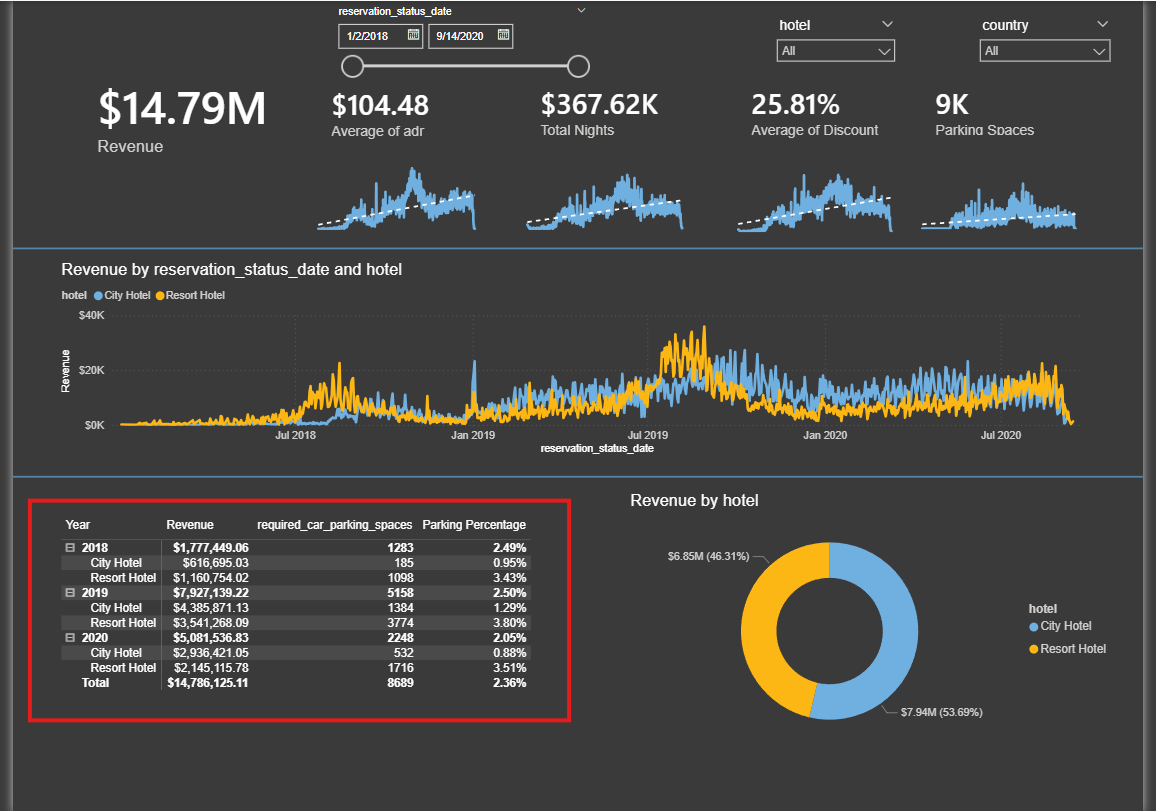

What the dashboard file says about the page in this screenshot:
{"tool":"powerbi","page":{"name":"Page 1","canvas":[1280,920],"ordinal":0},"visuals":[{"type":"shape","box":[0,264.3,1280,32.7],"z":0},{"type":"shape","box":[0,464.1,1280,148.9],"z":1000},{"type":"cardVisual","fields":{"Data":["Sum(Query1.Revenue)"]},"box":[65.3,42.3,257.5,173.9],"z":2000},{"type":"cardVisual","fields":{"Data":["Avg(Query1.adr)"]},"box":[330.6,66.3,237.4,115.3],"z":3000},{"type":"cardVisual","fields":{"Data":["Query1.Total Nights"]},"box":[567.9,69.2,247.9,109.5],"z":4000},{"type":"cardVisual","fields":{"Data":["Avg(Query1.Discount)"]},"box":[807.2,69.2,219.1,108.6],"z":5000},{"type":"lineChart","fields":{"Y":["Sum(Query1.Revenue)"],"Category":["Query1.reservation_status_date"],"Series":["Query1.hotel"]},"box":[50,293.1,1179.1,225.8],"z":6000},{"type":"slicer","fields":{"Values":["Query1.country"]},"box":[1084.9,13.9,168,80.1],"z":7000},{"type":"slicer","fields":{"Values":["Query1.hotel"]},"box":[855.9,13.7,154.5,66.4],"z":8000},{"type":"lineChart","fields":{"Category":["Query1.reservation_status_date"],"Y":["Sum(Query1.adr)"]},"box":[330.6,165.3,207.6,99],"z":9000},{"type":"lineChart","fields":{"Y":["Query1.Total Nights"],"Category":["Query1.reservation_status_date"]},"box":[567.9,165.3,205.6,99],"z":10000},{"type":"lineChart","fields":{"Y":["Sum(Query1.Discount)"],"Category":["Query1.reservation_status_date"]},"box":[807.2,177.8,203.7,89.4],"z":11000},{"type":"cardVisual","fields":{"Data":["Sum(Query1.required_car_parking_spaces)"]},"box":[1015.5,75.5,252.7,94],"z":12000},{"type":"lineChart","fields":{"Y":["Sum(Query1.required_car_parking_spaces)"],"Category":["Query1.reservation_status_date"]},"box":[1014.8,174.9,203.7,89.4],"z":13000},{"type":"donutChart","fields":{"Category":["Query1.hotel"],"Y":["Sum(Query1.Revenue)"]},"box":[694.6,555,558.4,296.4],"z":14000},{"type":"pivotTable","fields":{"Rows":["Query1.reservation_status_date.Variation.Date Hierarchy.Year","Query1.hotel"],"Values":["Sum(Query1.Revenue)","Sum(Query1.required_car_parking_spaces)","Query1.Parking Percentage"]},"box":[50.3,580.1,611,296.4],"z":15000},{"type":"slicer","fields":{"Values":["Query1.reservation_status_date"]},"box":[355.9,0,305.5,93.8],"z":16000}]}

Visuals, with their boxes in screenshot pixels (x1, y1, x2, y2), scaled from the page's 1280x920 canvas onto the 1156x811 screenshot:
shape: x1=0 y1=233 x2=1155 y2=262
shape: x1=0 y1=409 x2=1155 y2=540
cardVisual - Sum(Query1.Revenue): x1=59 y1=37 x2=292 y2=191
cardVisual - Avg(Query1.adr): x1=299 y1=58 x2=513 y2=160
cardVisual - Query1.Total Nights: x1=513 y1=61 x2=737 y2=158
cardVisual - Avg(Query1.Discount): x1=729 y1=61 x2=927 y2=157
lineChart - Sum(Query1.Revenue) x Query1.reservation_status_date: x1=45 y1=258 x2=1110 y2=457
slicer - Query1.country: x1=980 y1=12 x2=1132 y2=83
slicer - Query1.hotel: x1=773 y1=12 x2=913 y2=71
lineChart - Query1.reservation_status_date x Sum(Query1.adr): x1=299 y1=146 x2=486 y2=233
lineChart - Query1.Total Nights x Query1.reservation_status_date: x1=513 y1=146 x2=699 y2=233
lineChart - Sum(Query1.Discount) x Query1.reservation_status_date: x1=729 y1=157 x2=913 y2=236
cardVisual - Sum(Query1.required_car_parking_spaces): x1=917 y1=67 x2=1145 y2=149
lineChart - Sum(Query1.required_car_parking_spaces) x Query1.reservation_status_date: x1=916 y1=154 x2=1100 y2=233
donutChart - Query1.hotel x Sum(Query1.Revenue): x1=627 y1=489 x2=1132 y2=751
pivotTable - Query1.reservation_status_date.Variation.Date Hierarchy.Year x Query1.hotel: x1=45 y1=511 x2=597 y2=773
slicer - Query1.reservation_status_date: x1=321 y1=0 x2=597 y2=83
